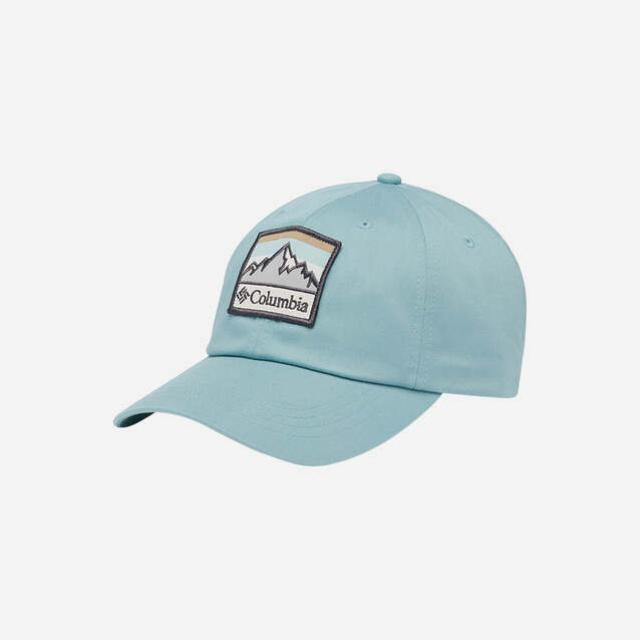Nonhelmet: (110, 168, 531, 468)
